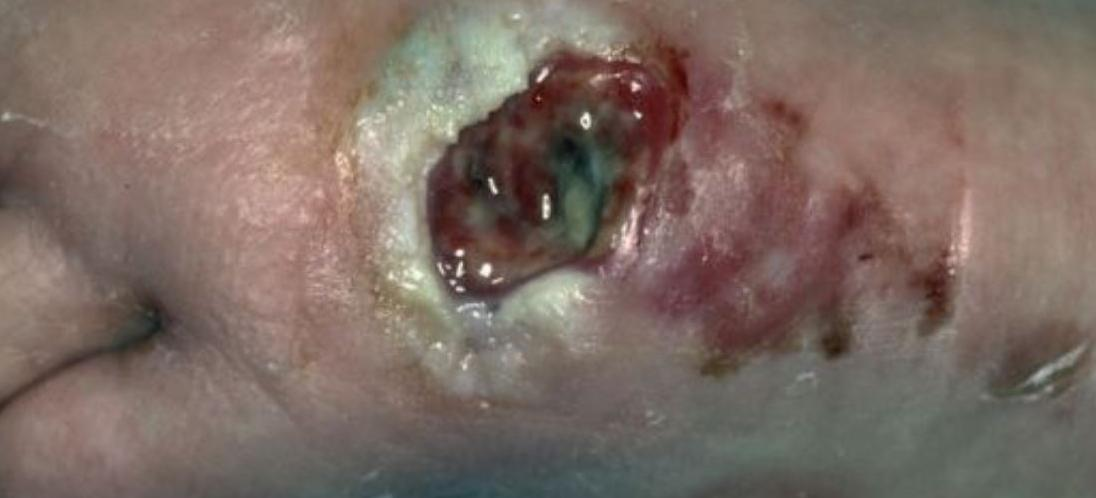Stage3: (364, 10, 762, 343)
